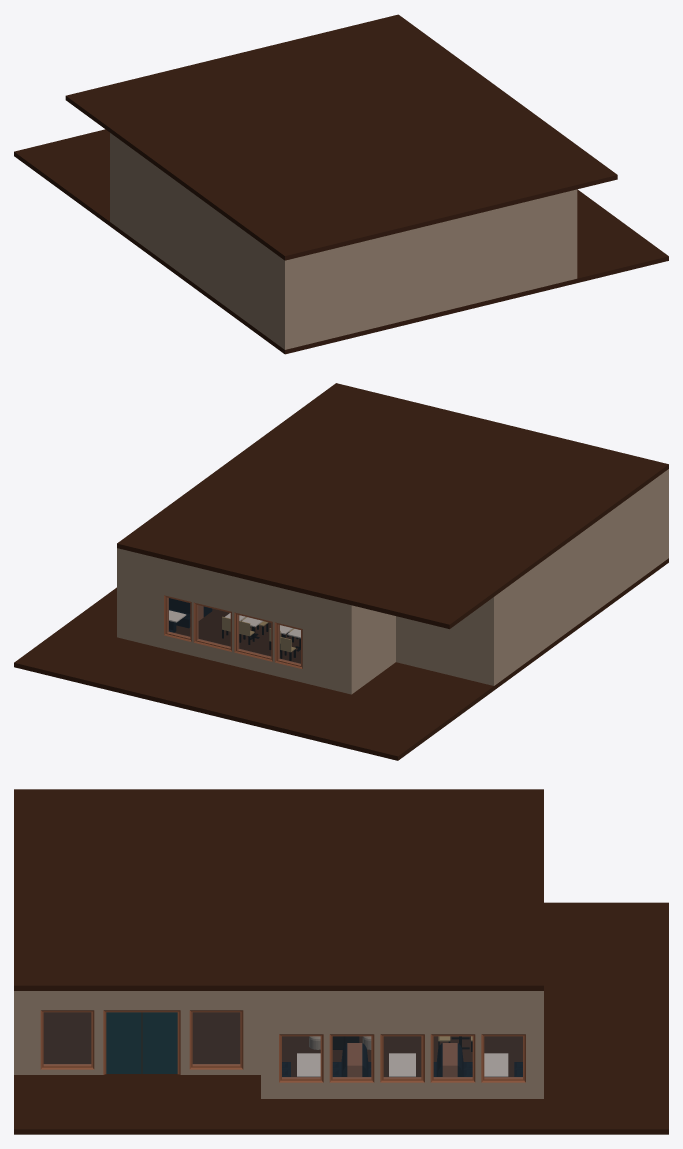
Rendered from Cafe_Layout.fbx.
The picture shows the model from 3 angles, top to bottom: view 1: azimuth 30°, elevation 25°; view 2: azimuth 150°, elevation 25°; view 3: azimuth 270°, elevation 25°; orthographic projection. The views are drawn at different scales.
Parts seen in each view (by area): view 1: Roof, Walls, Floor; view 2: Roof, Walls, Floor, Glass_Cafe, Two-seat_Tables, Sofas; view 3: Roof, Floor, Walls, Glass_Cafe, Doors, Sofas, Long_Table.
Boxes of the visible parts, <box> form: Roof: <box>65,14,617,260</box>; Walls: <box>110,133,577,349</box>; Floor: <box>14,129,668,354</box>; Roof: <box>117,383,668,629</box>; Walls: <box>117,469,668,694</box>; Floor: <box>14,558,668,760</box>; Glass_Cafe: <box>168,598,300,664</box>; Two-seat_Tables: <box>222,613,300,660</box>; Sofas: <box>169,598,212,632</box>; Roof: <box>14,789,543,990</box>; Floor: <box>14,902,668,1134</box>; Walls: <box>14,991,543,1098</box>; Glass_Cafe: <box>44,1012,522,1078</box>; Doors: <box>106,1012,177,1073</box>; Sofas: <box>282,1043,508,1076</box>; Long_Table: <box>309,1036,371,1049</box>.
Bounding box in the file's own units: 1800 × 440 × 2200.
